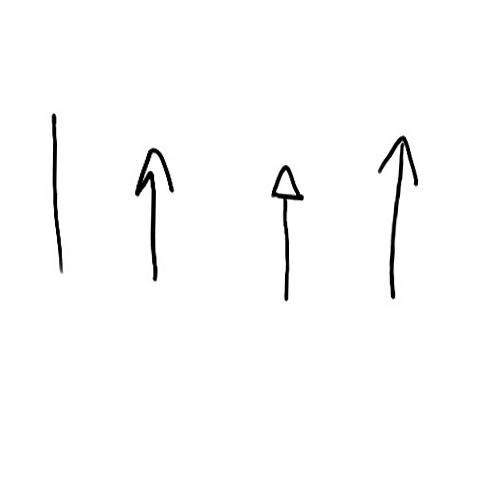arrow: (375, 138, 420, 301), (130, 147, 176, 286), (269, 164, 302, 296)
arrownohead: (43, 108, 74, 277)
